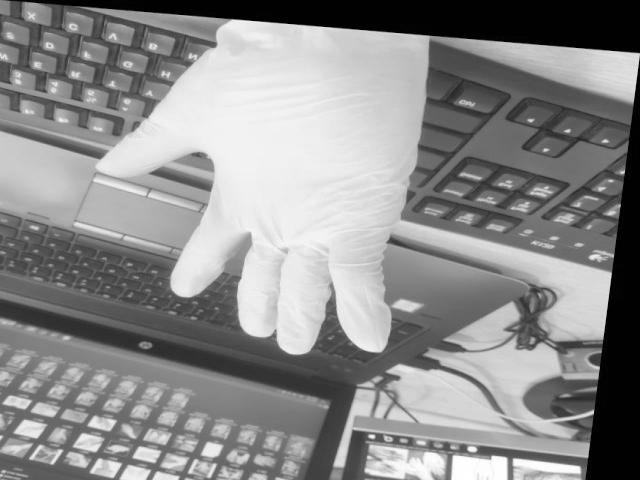gloved: (97, 22, 430, 358)
